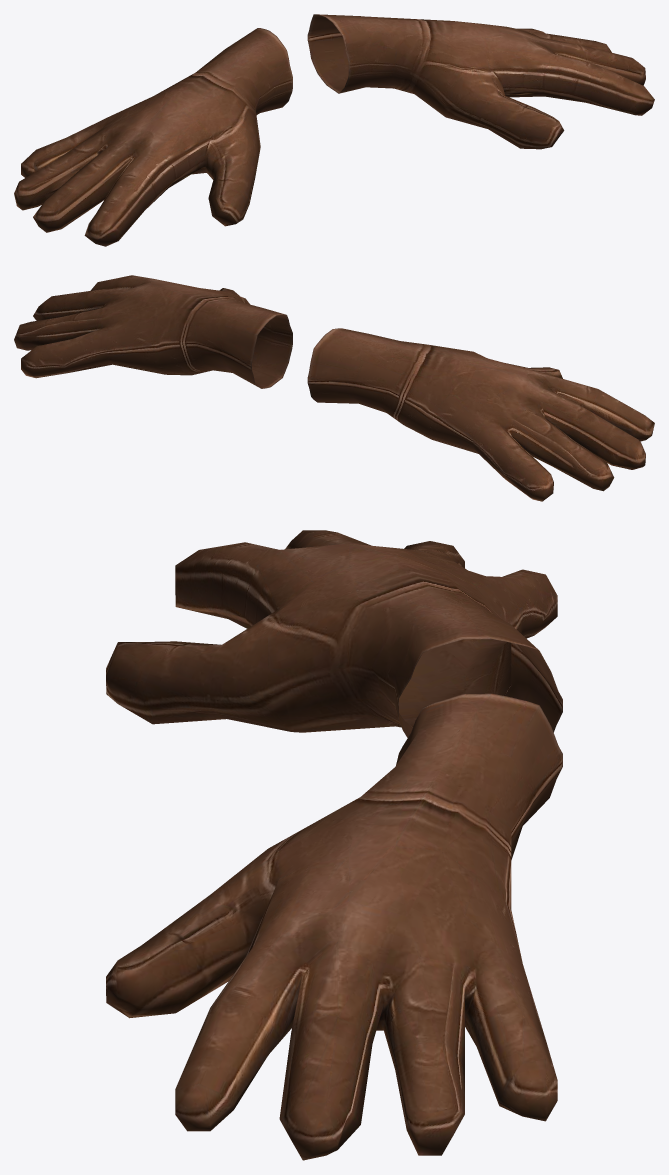
The model's file is LeatherRangedGloves.glb.
3 views of the same model, one above another, from view 1: azimuth 30°, elevation 25°; view 2: azimuth 150°, elevation 25°; view 3: azimuth 270°, elevation 25° (orthographic). The views are drawn at different scales.
Visible parts, largest first — view 1: Mesh_0; view 2: Mesh_0; view 3: Mesh_0.
Boxes of the visible parts, x1,y1,x2,y2 form: Mesh_0: [14, 14, 654, 246]; Mesh_0: [14, 275, 654, 501]; Mesh_0: [106, 530, 562, 1160].
Bounding box in the file's own units: 2 × 0.3199 × 0.6521.
1 material, 1 textured.
